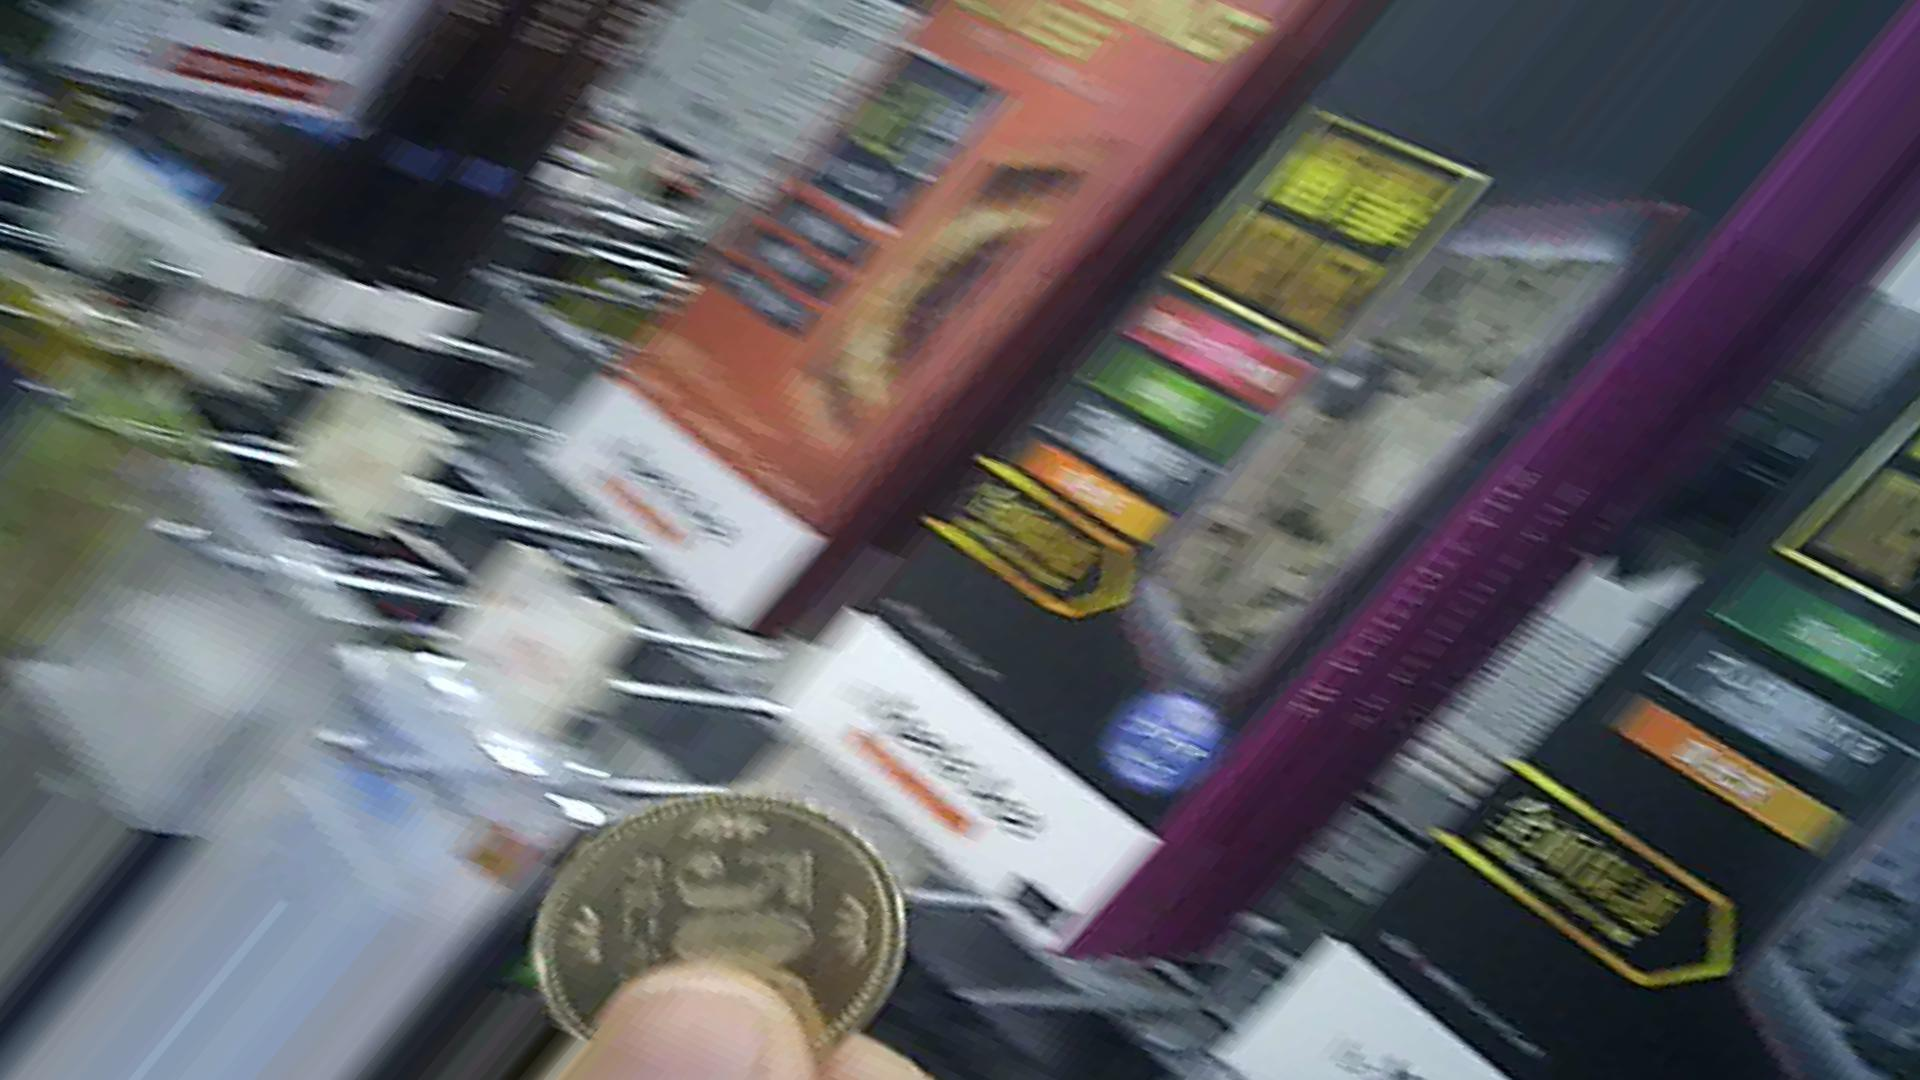500 Yen: (533, 793, 895, 1043)
